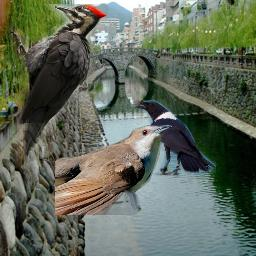Crow: (133, 100, 216, 176)
Cuckoo: (55, 125, 172, 215)
Woodpecker: (9, 4, 108, 166)
